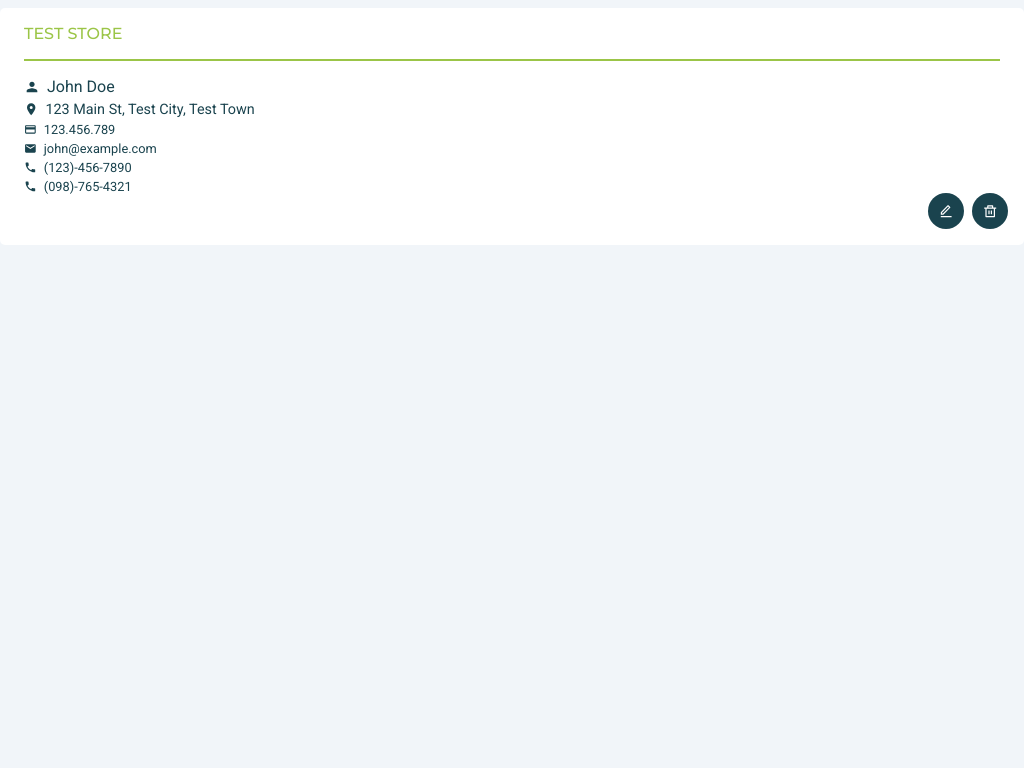
it: CustomerCard › shows delete confirmation modal when delete button is clicked
Step 1. Click the button named "eliminar cliente" → (990, 211), box [972,193,1008,229]
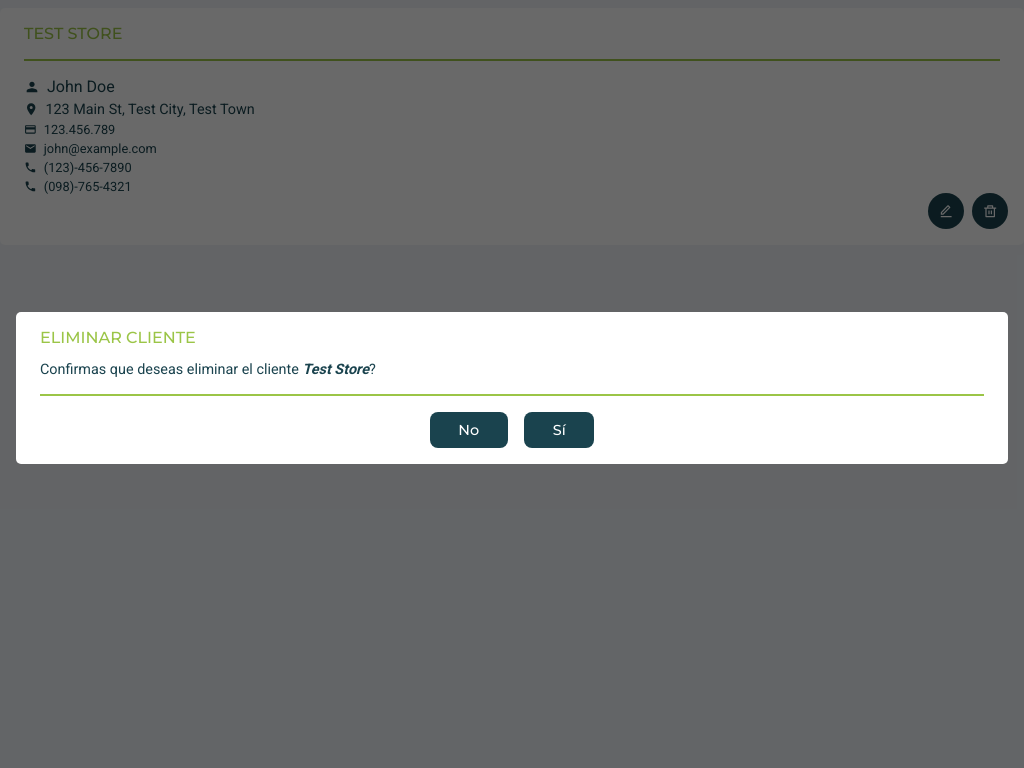
expect the text "Confirmas que deseas eliminar el cliente Test Store?" is shown: met, box [40,361,376,378]
expect the heading "Eliminar cliente" is shown: met, box [40,328,196,347]
expect the dialog shows "Test Store": met, box [302,361,369,378]
